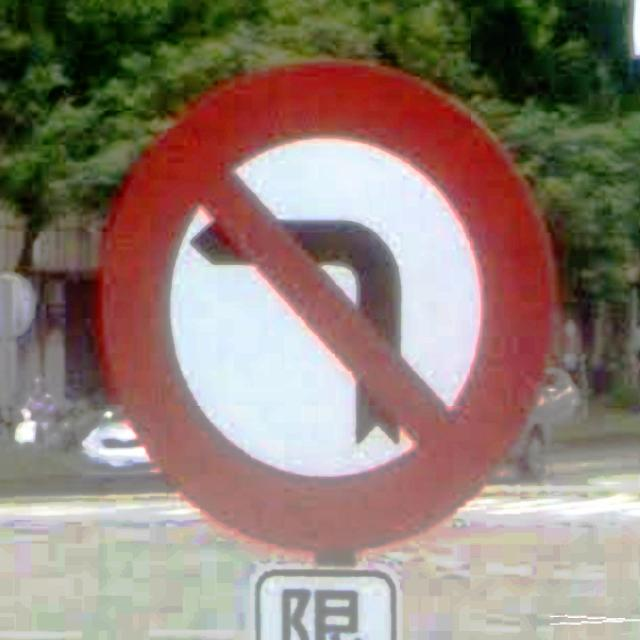noturnleft: (98, 60, 557, 560)
